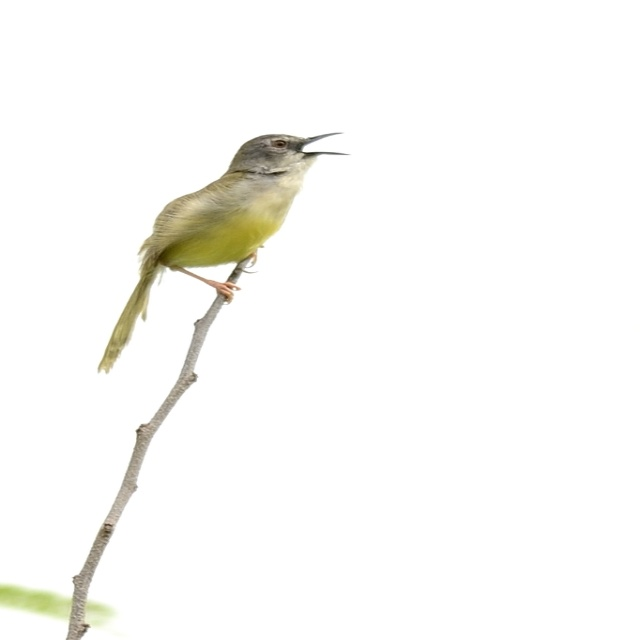Canary: (94, 127, 352, 370)
